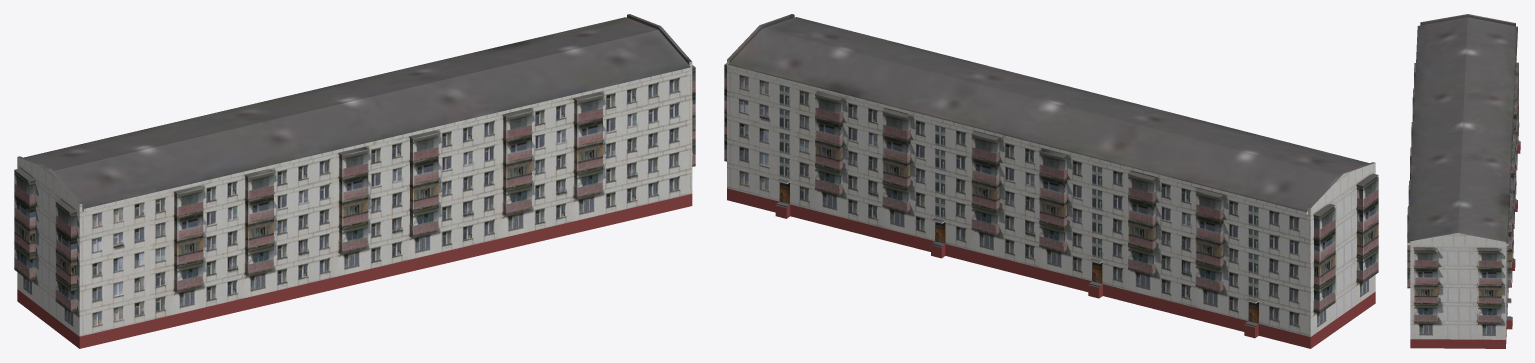
File: 1-510_4entrances.glb
3 renders of one model, left to right at view 1: azimuth 30°, elevation 25°; view 2: azimuth 150°, elevation 25°; view 3: azimuth 270°, elevation 25°, orthographic. The views are drawn at different scales.
Parts seen in each view (by area): view 1: ID74, ID106, ID58, ID263, ID287, ID50, ID535, ID351, ID335, ID279, ID127, ID82; view 2: ID447, ID106, ID58, ID263, ID183, SketchUp, ID42, ID359, ID239, ID98, ID127, ID82 (+1 smaller); view 3: ID106, ID463, ID455, ID375, ID58, ID239, ID279, ID98, SketchUp, ID42, ID359, ID183 (+1 smaller).
Part boxes in pixels (x1=…): ID74: x1=79, y1=61, x2=692, y2=336; ID106: x1=18, y1=14, x2=691, y2=208; ID58: x1=17, y1=194, x2=692, y2=348; ID263: x1=17, y1=157, x2=79, y2=336; ID287: x1=174, y1=188, x2=203, y2=292; ID50: x1=339, y1=149, x2=368, y2=253; ID535: x1=410, y1=133, x2=438, y2=237; ID351: x1=503, y1=111, x2=531, y2=215; ID335: x1=245, y1=171, x2=273, y2=275; ID279: x1=574, y1=94, x2=602, y2=198; ID127: x1=14, y1=170, x2=35, y2=281; ID82: x1=55, y1=202, x2=76, y2=312; ID447: x1=727, y1=59, x2=1310, y2=336; ID106: x1=727, y1=14, x2=1375, y2=211; ID58: x1=727, y1=188, x2=1375, y2=348; ID263: x1=1310, y1=163, x2=1375, y2=336; ID183: x1=1195, y1=191, x2=1223, y2=292; SketchUp: x1=882, y1=111, x2=910, y2=213; ID42: x1=971, y1=134, x2=999, y2=235; ID359: x1=1039, y1=151, x2=1066, y2=253; ID239: x1=815, y1=94, x2=842, y2=195; ID98: x1=1128, y1=173, x2=1155, y2=275; ID127: x1=1314, y1=205, x2=1335, y2=313; ID82: x1=1357, y1=175, x2=1378, y2=283; ID106: x1=1408, y1=14, x2=1517, y2=243; ID463: x1=1410, y1=233, x2=1505, y2=339; ID455: x1=1414, y1=250, x2=1437, y2=323; ID375: x1=1478, y1=250, x2=1501, y2=323; ID58: x1=1410, y1=142, x2=1520, y2=348; ID239: x1=1507, y1=210, x2=1512, y2=287; ID279: x1=1407, y1=215, x2=1410, y2=288; ID98: x1=1514, y1=92, x2=1517, y2=170; SketchUp: x1=1510, y1=180, x2=1513, y2=262; ID42: x1=1511, y1=151, x2=1514, y2=228; ID359: x1=1512, y1=122, x2=1516, y2=203; ID183: x1=1515, y1=63, x2=1518, y2=144.
Size of the model in its own units: 73.98 by 17.81 by 15.78.
74 materials, 71 textured.
